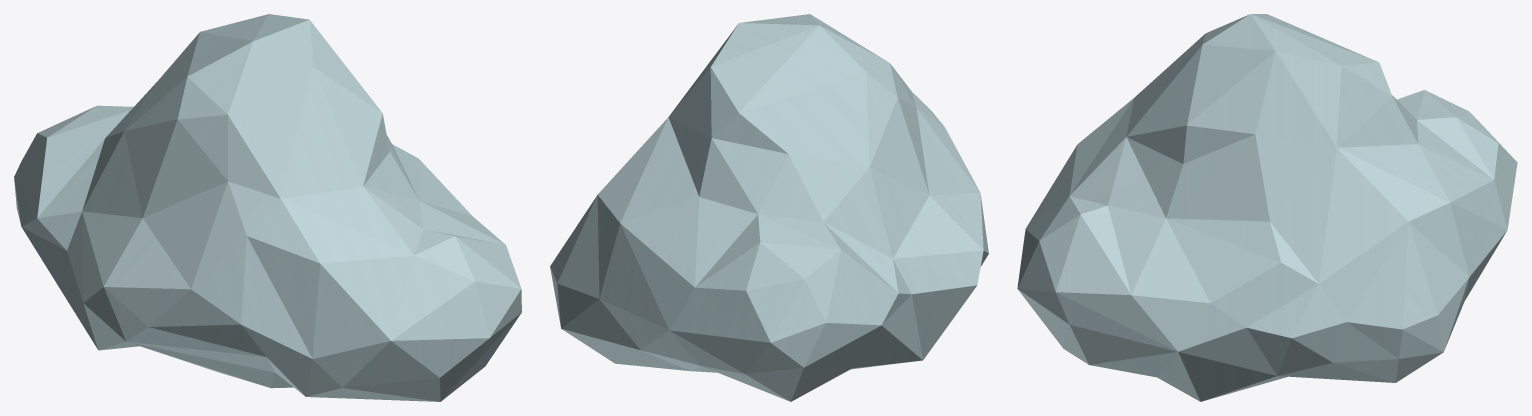
Rendered from Cloud_3.fbx.
3 views of the same model, side by side, from view 1: azimuth 30°, elevation 25°; view 2: azimuth 150°, elevation 25°; view 3: azimuth 270°, elevation 25° (orthographic). The views are drawn at different scales.
Parts seen in each view (by area): view 1: Group60200; view 2: Group60200; view 3: Group60200.
Boxes of the visible parts, left/top/right/bottom form: Group60200: left=14, top=14, right=521, bottom=401; Group60200: left=550, top=14, right=988, bottom=401; Group60200: left=1017, top=14, right=1517, bottom=401.
Size of the model in its own units: 597 by 505 by 711.
